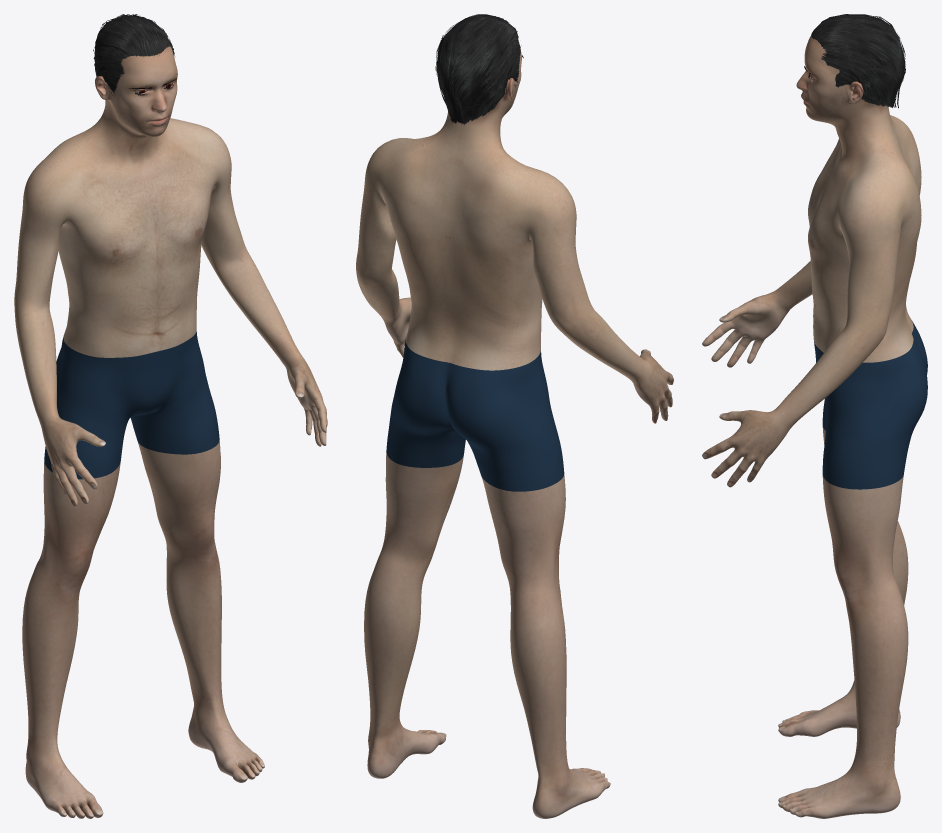
Rendered from body-male-pilot.glb.
The picture shows the model from 3 angles, left to right: view 1: azimuth 30°, elevation 25°; view 2: azimuth 150°, elevation 25°; view 3: azimuth 270°, elevation 25°; orthographic projection.
Parts seen in each view (by area): view 1: ABCuerpo anatomical candidate; view 2: ABCuerpo anatomical candidate; view 3: ABCuerpo anatomical candidate.
Part boxes in pixels (left/top/right/bottom): ABCuerpo anatomical candidate: left=14, top=14, right=327, bottom=818; ABCuerpo anatomical candidate: left=356, top=14, right=673, bottom=818; ABCuerpo anatomical candidate: left=702, top=14, right=927, bottom=818.
Size of the model in its own units: 0.6156 by 1.69 by 0.458.
Materials: 10 (9 with a texture image).
